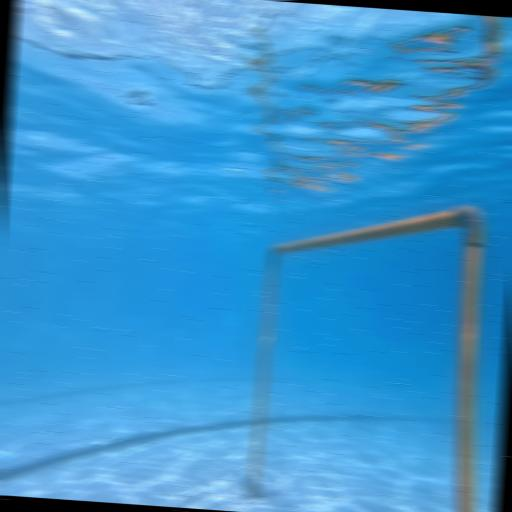gate: (243, 191, 498, 512)
